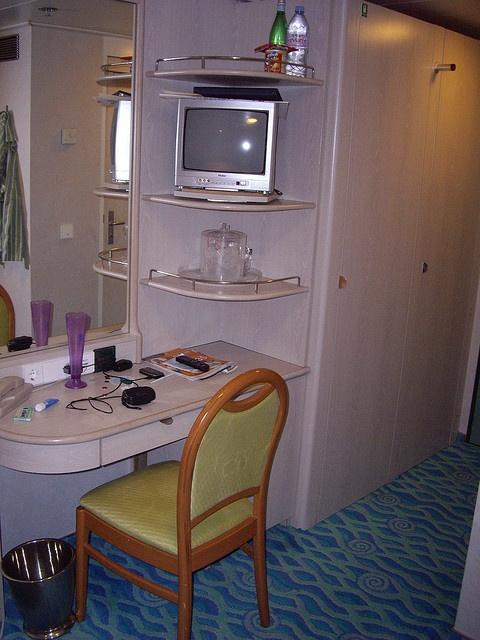Kursi: (73, 368, 290, 639)
